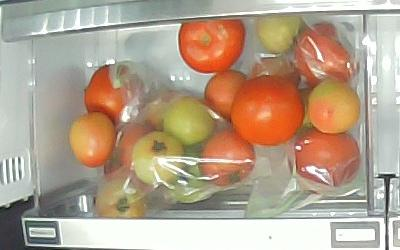tomato: (233, 77, 304, 146), (83, 59, 147, 123), (177, 17, 246, 73), (307, 77, 361, 133), (69, 112, 115, 166), (204, 72, 248, 122), (254, 15, 305, 52)
tomato_vinyl: (293, 21, 359, 83), (294, 128, 361, 189), (201, 130, 256, 186), (133, 131, 184, 184), (165, 97, 217, 147), (94, 173, 145, 221), (250, 53, 302, 91)
